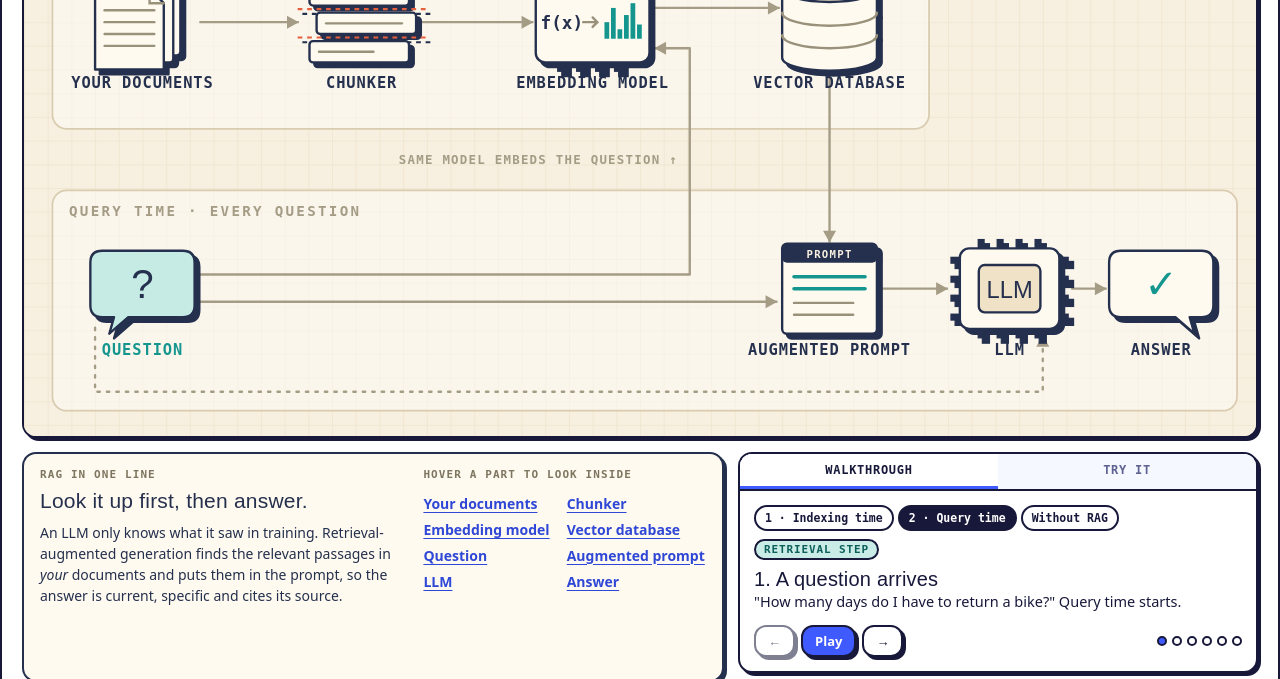
Test: HowRagWorks › keeps a Try it run when the walkthrough is opened
(page scrolled)
Click the tab "Try it" at coordinates (1127, 472), box [998,454,1256,490]
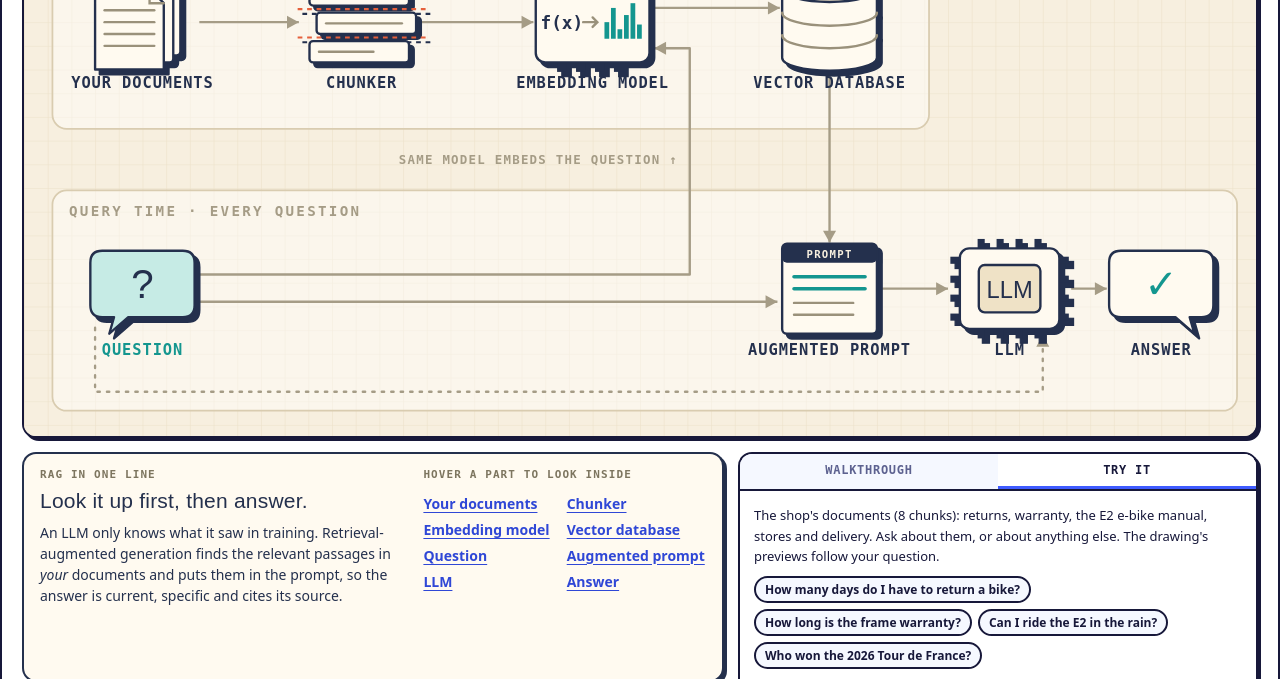
Click the button "Can I ride the E2 in the rain?" at coordinates (1073, 622), box [978,609,1168,636]
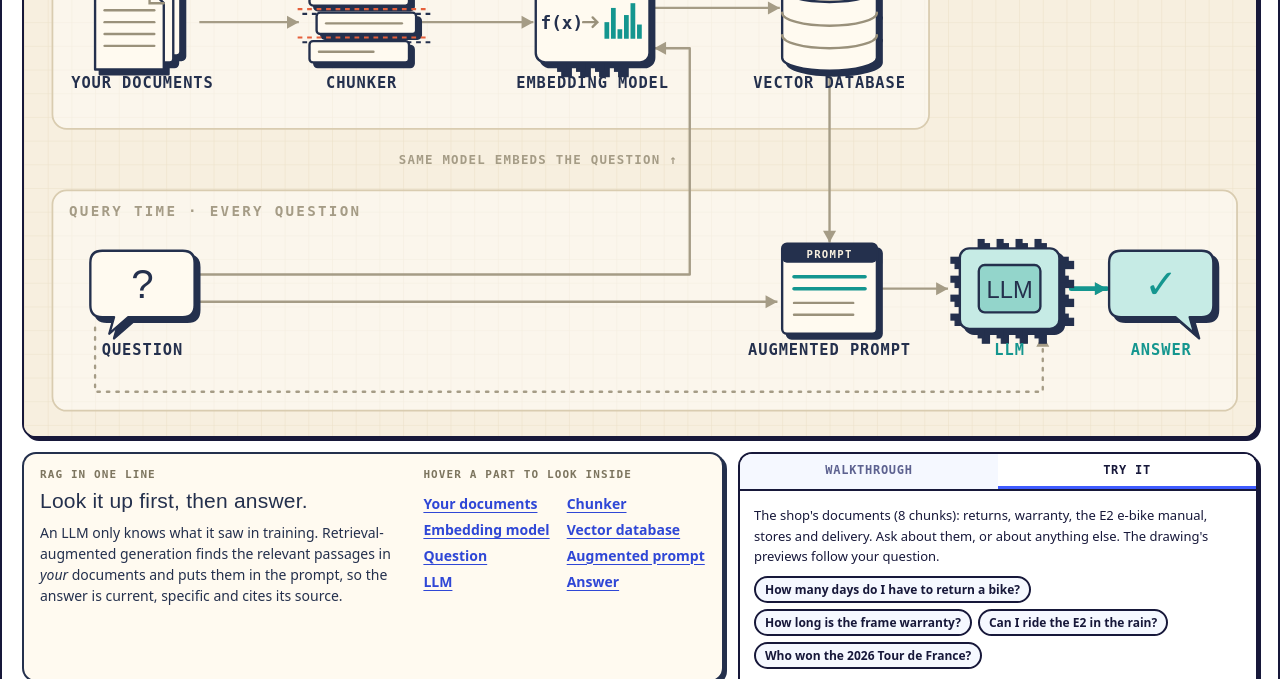
Click the tab "Walkthrough" at coordinates (869, 472), box [740,454,998,490]
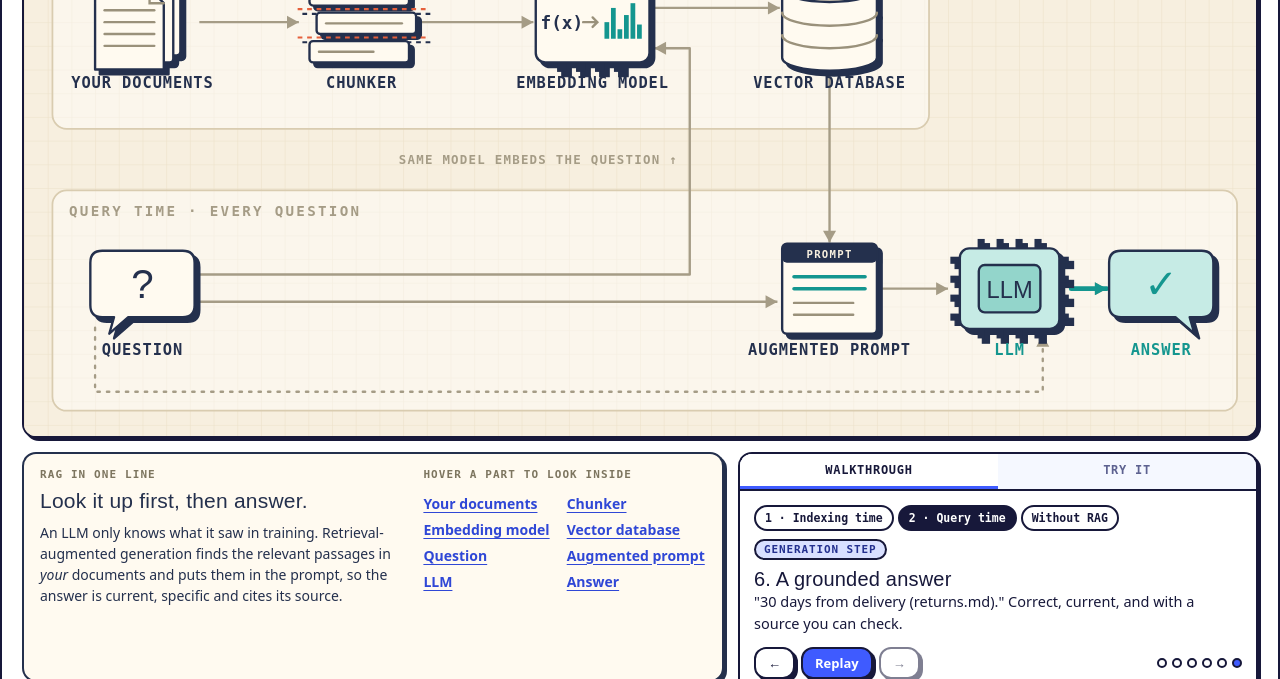
Click the tab "Try it" at coordinates (1127, 472), box [998,454,1256,490]
(page scrolled)
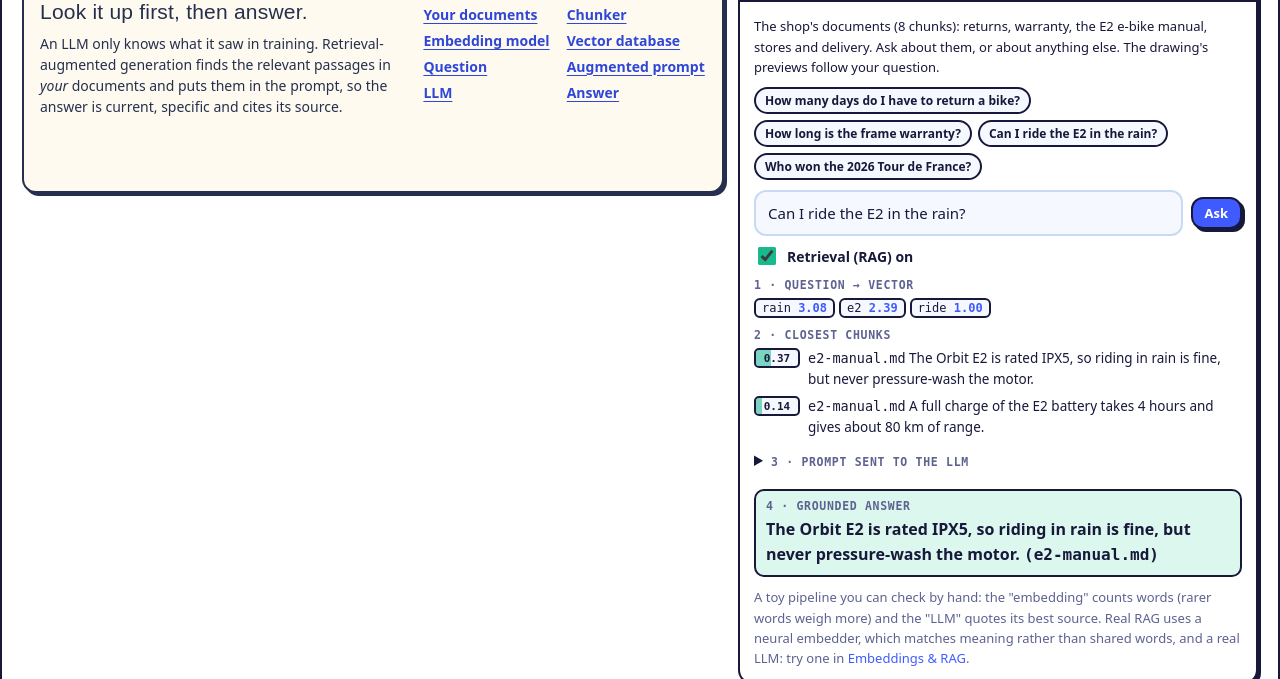
Check: the panel named "Try it" shows "IPX5", box [808,349,1221,388]
